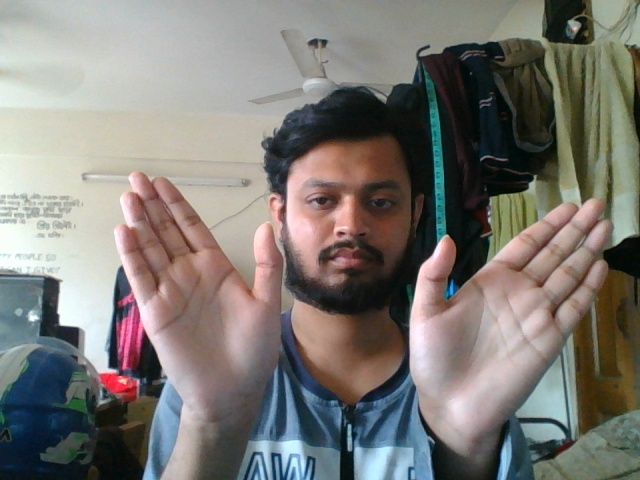naa: (104, 173, 626, 412)
